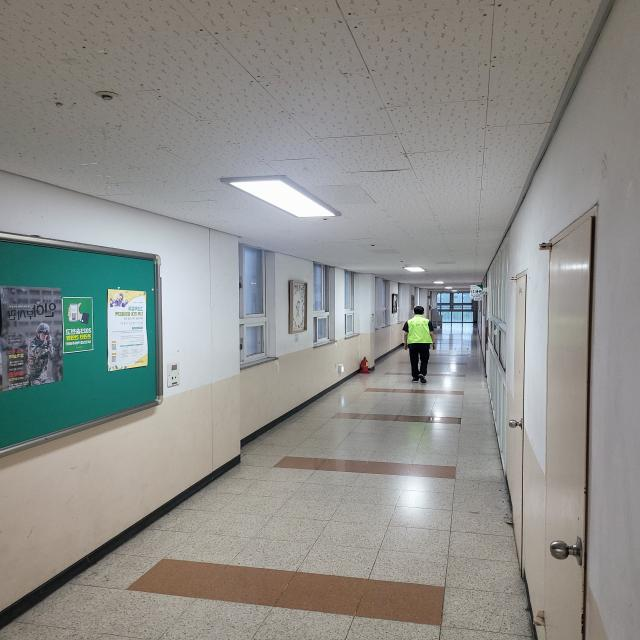weston_spy: (401, 311, 433, 352)
